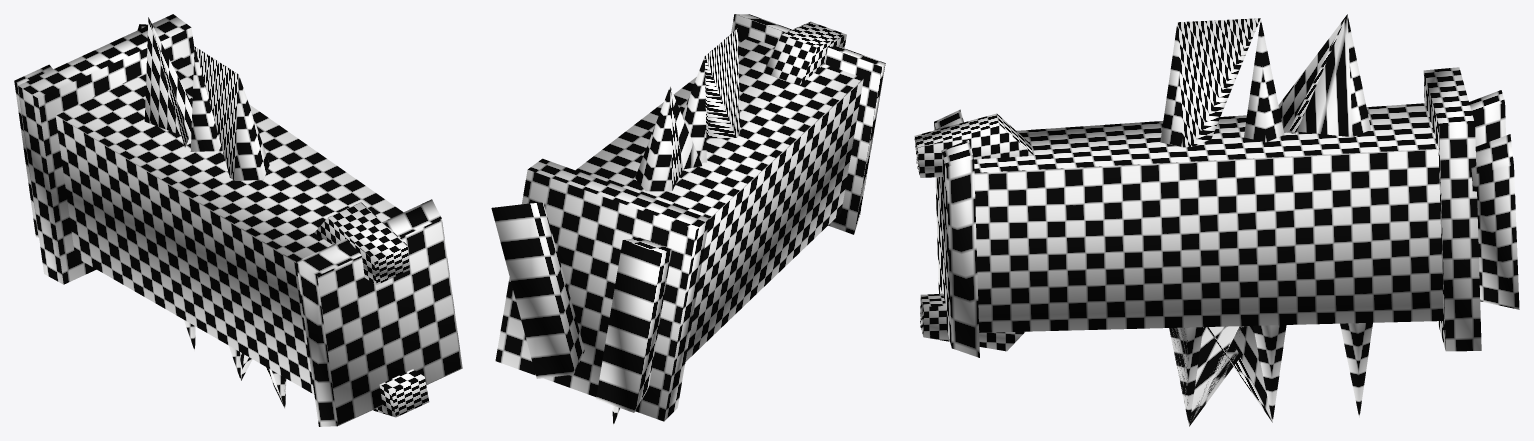
File: stst60.dae
3 views of the same model, side by side, from view 1: azimuth 30°, elevation 25°; view 2: azimuth 150°, elevation 25°; view 3: azimuth 270°, elevation 25° (orthographic). The views are drawn at different scales.
Parts seen in each view (by area): view 1: golem00, rl3, ll3; view 2: golem00, rl3, ll3; view 3: golem00, ll3, rl3.
Boxes of the visible parts, left/top/right/bottom form: golem00: left=14, top=14, right=462, bottom=426; rl3: left=144, top=17, right=285, bottom=399; ll3: left=149, top=20, right=284, bottom=407; golem00: left=491, top=14, right=885, bottom=426; rl3: left=670, top=28, right=739, bottom=190; ll3: left=670, top=57, right=735, bottom=169; golem00: left=914, top=15, right=1519, bottom=426; ll3: left=1189, top=14, right=1352, bottom=426; rl3: left=1169, top=15, right=1346, bottom=422.
Size of the model in its own units: 0.7557 by 1.73 by 1.2.
Materials: 1 (1 with a texture image).
